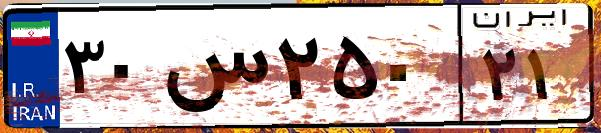0: (385, 28, 445, 110), (110, 28, 158, 98)
1: (525, 38, 570, 115)
2: (270, 28, 330, 110), (475, 38, 525, 113)
3: (57, 26, 110, 100)
5: (330, 28, 385, 110)
س: (158, 20, 270, 120)
